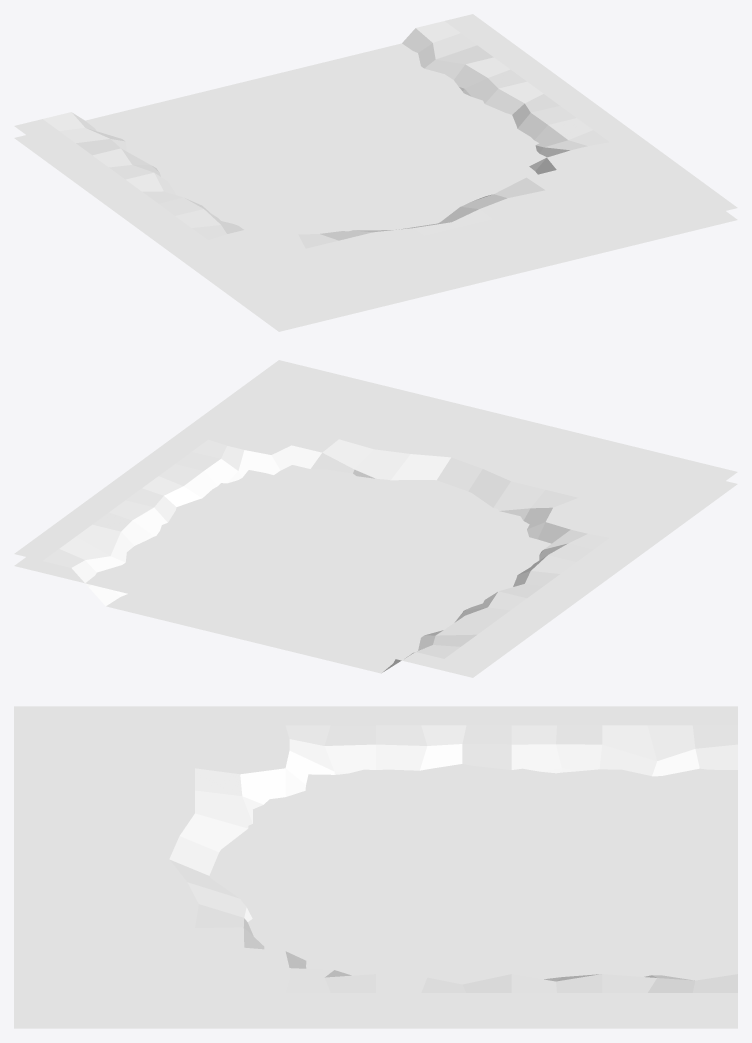
File: ground.river.end.glb
3 renders of one model, top to bottom at view 1: azimuth 30°, elevation 25°; view 2: azimuth 150°, elevation 25°; view 3: azimuth 270°, elevation 25°, orthographic. The views are drawn at different scales.
Parts seen in each view (by area): view 1: ground.river.water.end, ground.river.end; view 2: ground.river.end, ground.river.water.end; view 3: ground.river.end, ground.river.water.end.
Boxes of the visible parts, x1,y1,x2,y2 form: ground.river.water.end: [14, 43, 737, 331]; ground.river.end: [14, 14, 737, 319]; ground.river.end: [14, 360, 737, 673]; ground.river.water.end: [14, 465, 737, 677]; ground.river.end: [14, 706, 737, 1012]; ground.river.water.end: [14, 764, 737, 1028].
Size of what is drawn, in the model's own units: 4 by 0.4041 by 4.
1 material, 1 textured.
